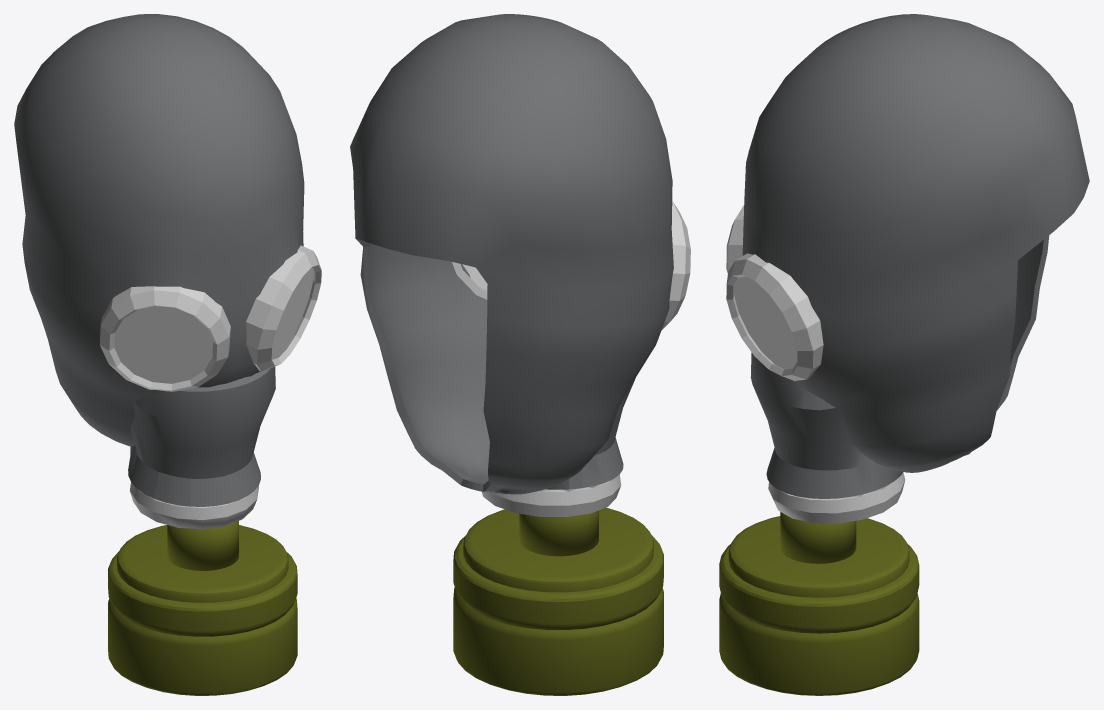
The picture shows the model from 3 angles, left to right: view 1: azimuth 30°, elevation 25°; view 2: azimuth 150°, elevation 25°; view 3: azimuth 270°, elevation 25°; orthographic projection. The views are drawn at different scales.
Parts seen in each view (by area): view 1: Sphere, Cylinder, Cylinder.002, Cylinder.003, Circle, Cylinder.001; view 2: Sphere, Cylinder, Cylinder.002, Cylinder.001, Cylinder.003; view 3: Sphere, Cylinder, Cylinder.002, Cylinder.003, Circle, Cylinder.001.
Boxes of the visible parts, box(x1,y1,x2,y2) form: Sphere: box(14, 14, 304, 446); Cylinder: box(108, 525, 297, 695); Cylinder.002: box(128, 366, 275, 529); Cylinder.003: box(99, 245, 321, 391); Circle: box(114, 267, 313, 383); Cylinder.001: box(167, 521, 238, 570); Sphere: box(350, 14, 673, 494); Cylinder: box(453, 507, 663, 695); Cylinder.002: box(482, 378, 635, 516); Cylinder.001: box(519, 510, 598, 556); Cylinder.003: box(452, 201, 690, 330); Sphere: box(742, 14, 1089, 472); Cylinder: box(719, 516, 919, 695); Cylinder.002: box(750, 352, 905, 523); Cylinder.003: box(726, 205, 823, 380); Circle: box(734, 276, 797, 369); Cylinder.001: box(780, 512, 856, 563).
Bounding box in the file's own units: 15.36 × 35.82 × 19.17.
